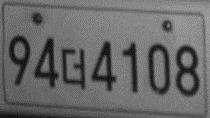0: (147, 42, 171, 93)
1: (119, 40, 146, 94)
4: (32, 36, 60, 89), (90, 40, 118, 91)
8: (175, 44, 200, 96)
9: (8, 35, 32, 86)
더: (60, 47, 87, 91)
